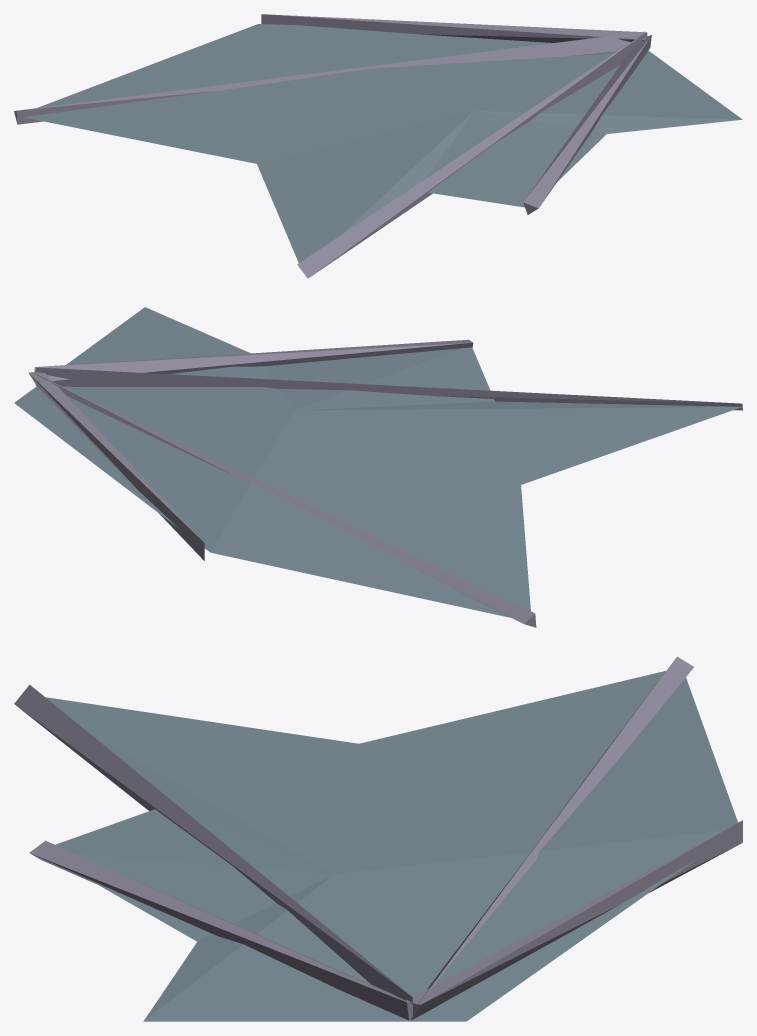
File: wing_l_lod2.glb
3 views of the same model, one above another, from view 1: azimuth 30°, elevation 25°; view 2: azimuth 150°, elevation 25°; view 3: azimuth 270°, elevation 25° (orthographic). The views are drawn at different scales.
Visible parts, largest first — view 1: devil_wing_l_LOD2; view 2: devil_wing_l_LOD2; view 3: devil_wing_l_LOD2.
Boxes of the visible parts, x1=… form: devil_wing_l_LOD2: x1=14, y1=14, x2=742, y2=278; devil_wing_l_LOD2: x1=14, y1=307, x2=742, y2=627; devil_wing_l_LOD2: x1=14, y1=656, x2=742, y2=1021.
Size of the model in its own units: 6.46 by 0.3517 by 5.41.
